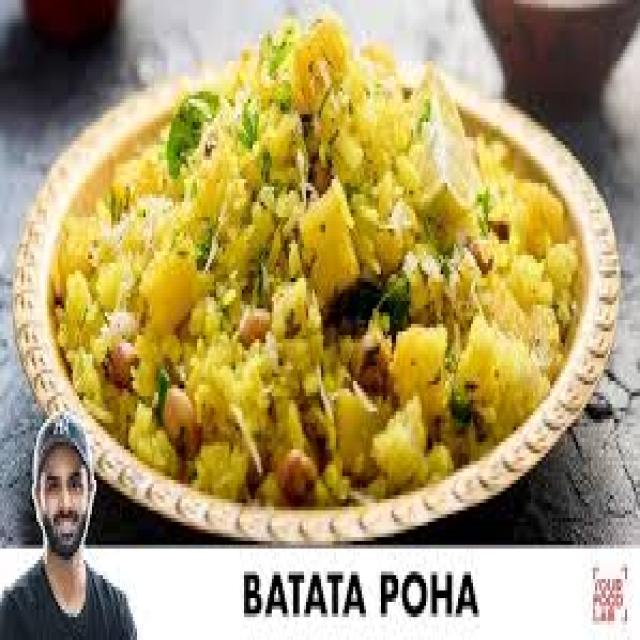POHA: (58, 0, 567, 500)
